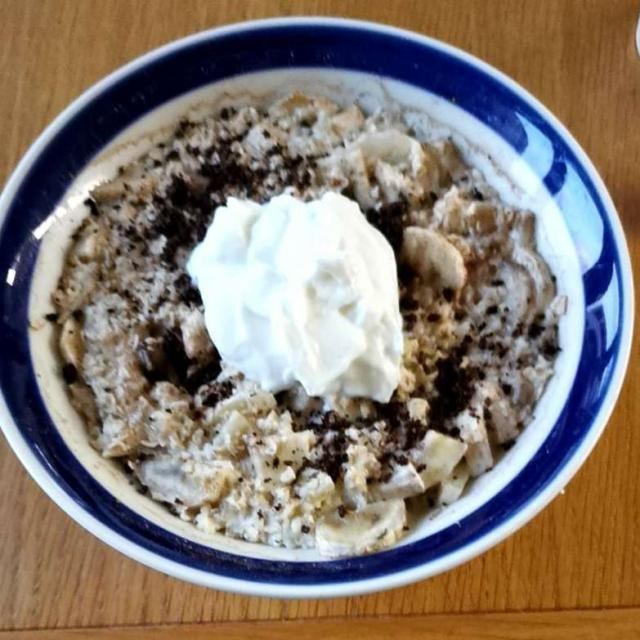banana: (134, 138, 554, 546)
curds: (188, 199, 398, 399)
